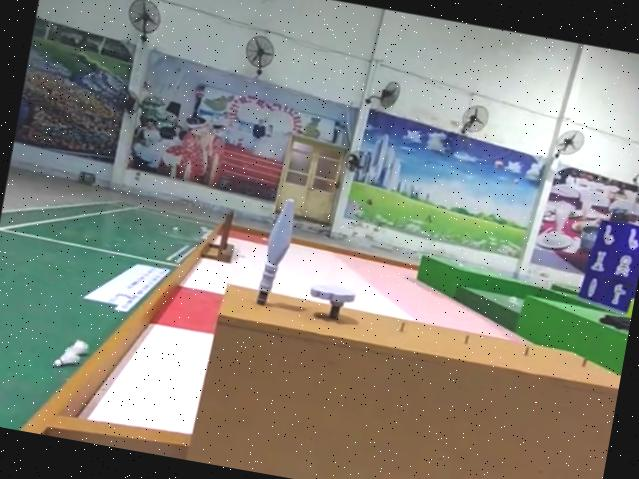Hand: (306, 277, 352, 319)
Sph: (251, 193, 301, 309)
